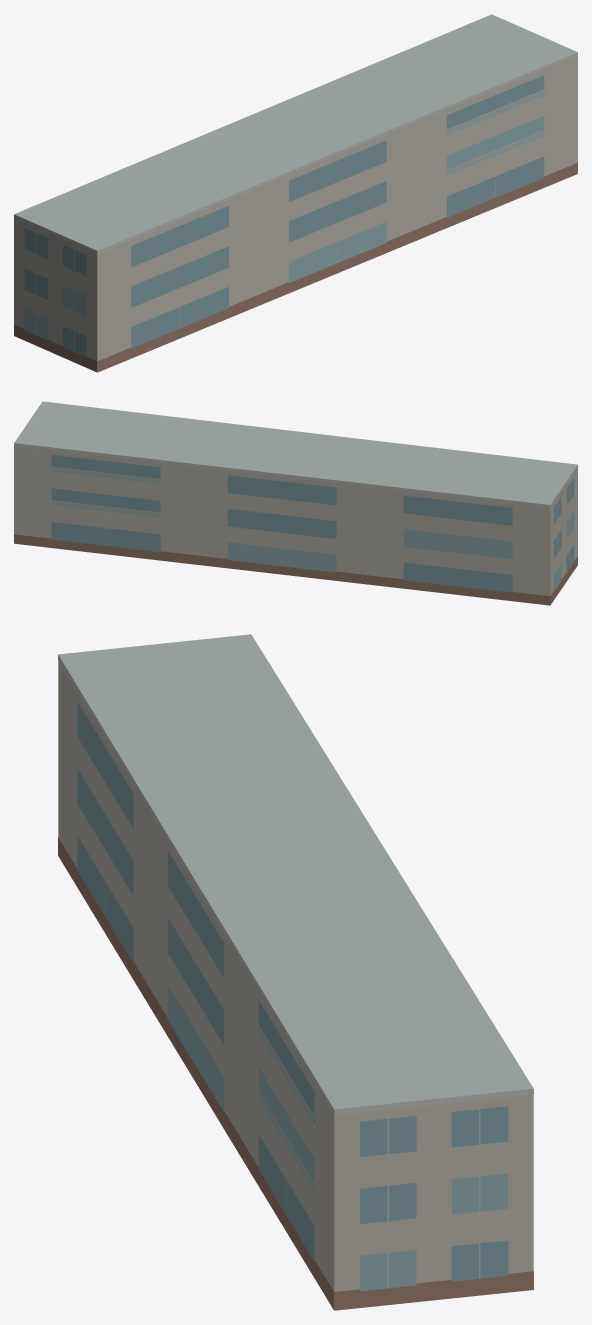
Rendered from survey-upis-32766169.glb.
3 views of the same model, one above another, from view 1: azimuth 30°, elevation 25°; view 2: azimuth 150°, elevation 25°; view 3: azimuth 270°, elevation 25° (orthographic). The views are drawn at different scales.
Visible parts, largest first — view 1: survey-upis-32766169.tmp; view 2: survey-upis-32766169.tmp; view 3: survey-upis-32766169.tmp.
Boxes of the visible parts, x1,y1,x2,y2 form: survey-upis-32766169.tmp: [14, 14, 577, 372]; survey-upis-32766169.tmp: [14, 401, 577, 605]; survey-upis-32766169.tmp: [58, 634, 533, 1310].
Size of the model in its own units: 46.35 by 9.15 by 19.61.
